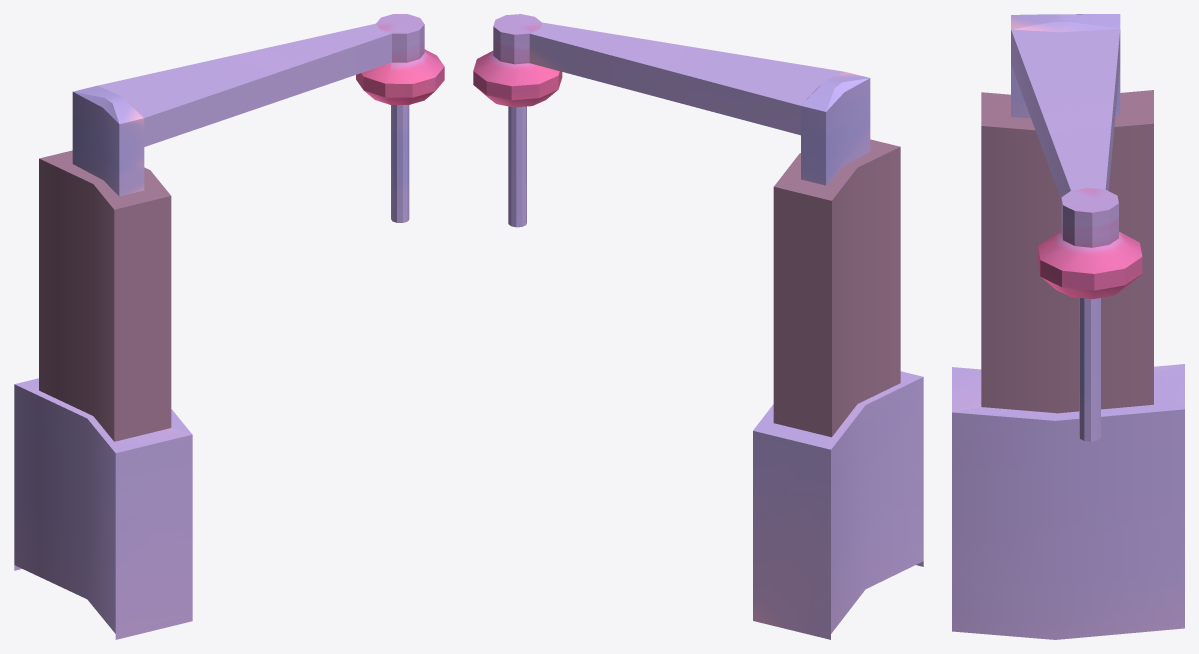
File: krem_aparat_1.fbx
3 views of the same model, side by side, from view 1: azimuth 30°, elevation 25°; view 2: azimuth 150°, elevation 25°; view 3: azimuth 270°, elevation 25° (orthographic). The views are drawn at different scales.
Parts seen in each view (by area): view 1: Cylinder.003; view 2: Cylinder.003; view 3: Cylinder.003.
Boxes of the visible parts, left/top/right/bottom form: Cylinder.003: left=14, top=14, right=444, bottom=639; Cylinder.003: left=473, top=14, right=923, bottom=639; Cylinder.003: left=952, top=14, right=1184, bottom=639.
Bounding box in the file's own units: 3.64 × 4.49 × 1.57.
